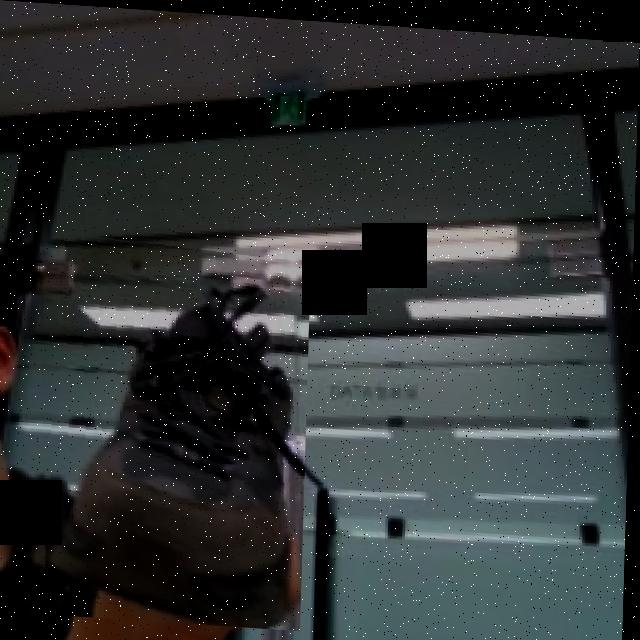shoe: (31, 228, 313, 627)
